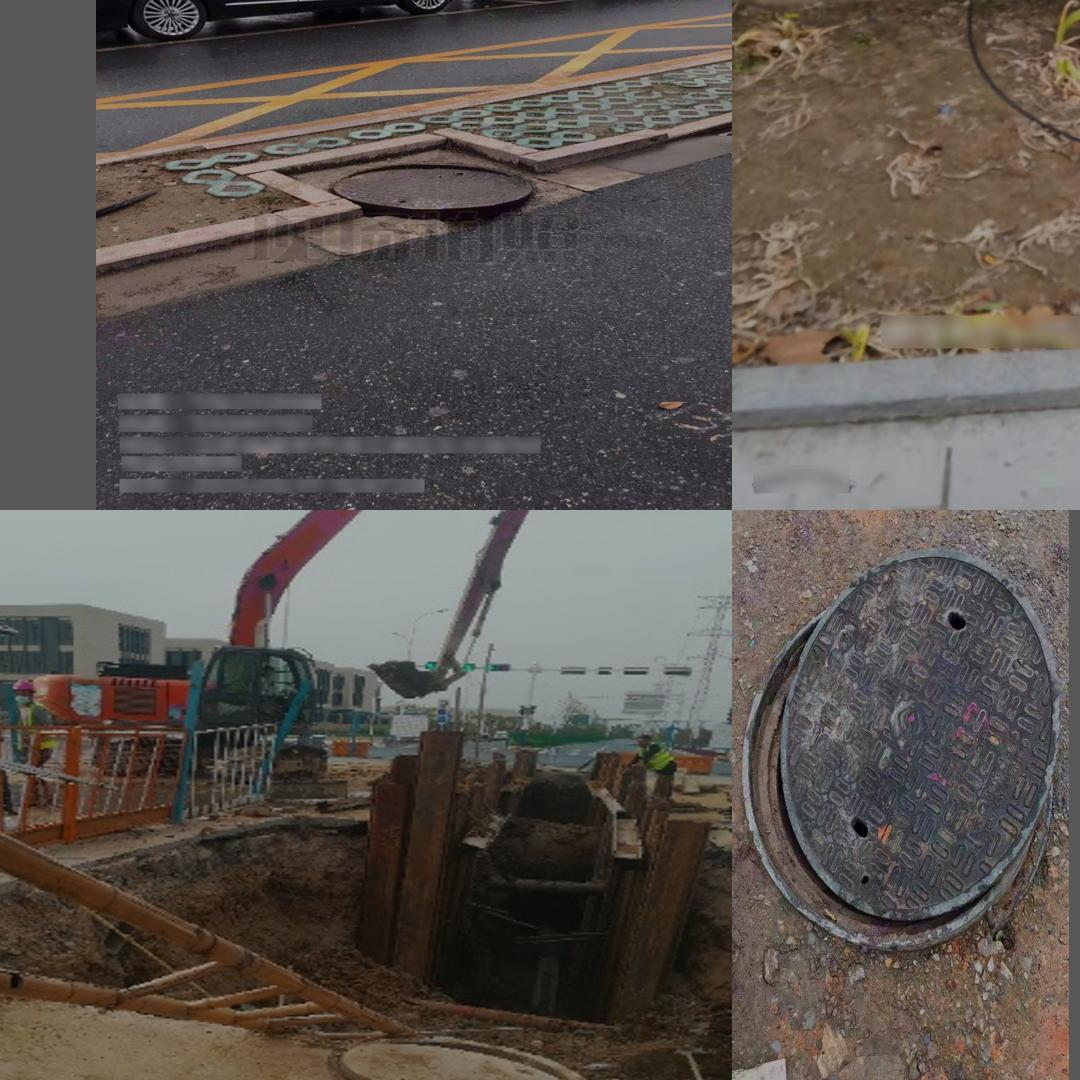uncovered: (740, 544, 1060, 950), (337, 1033, 606, 1080), (330, 166, 534, 223)
